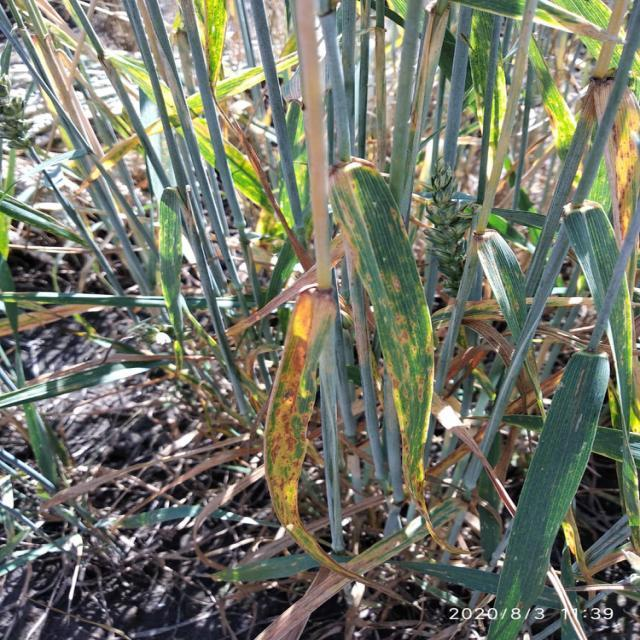wheat-septoria: (262, 260, 412, 613), (332, 158, 437, 545)
